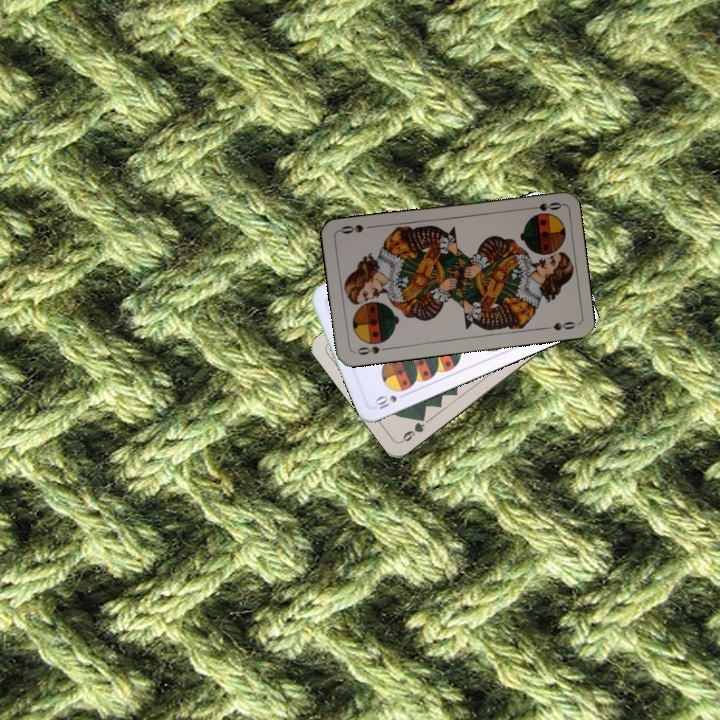G9: (397, 411, 428, 445)
S10: (370, 389, 410, 412)
SO: (523, 198, 563, 214), (353, 342, 391, 357)
